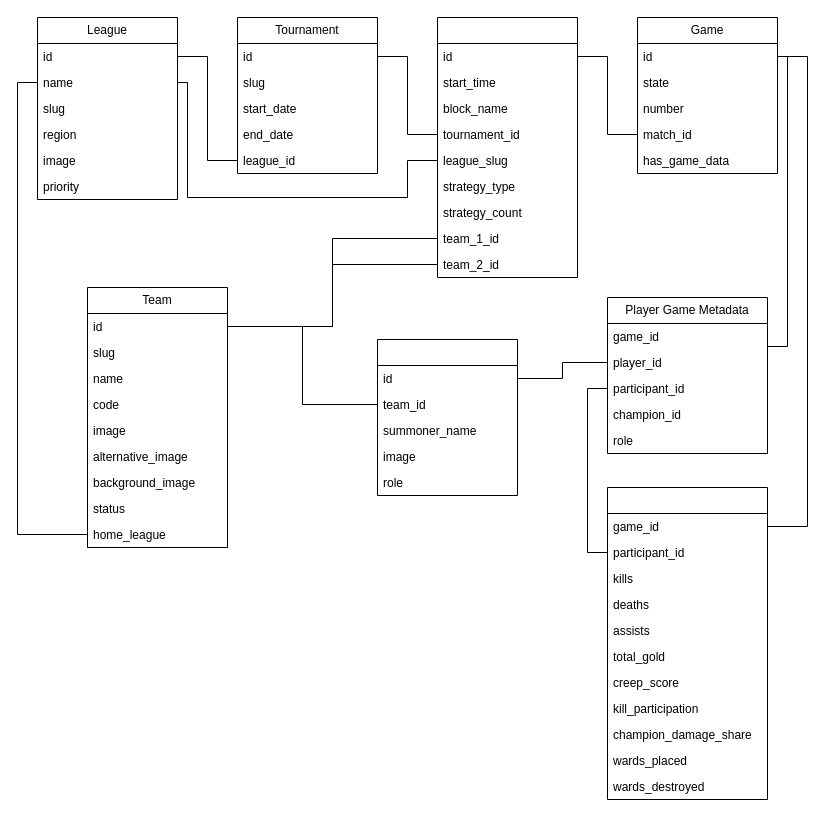
Image size: 826x820. Some labels were removed from this diagram. The box of each missing label's shape, as (x1, y1, x2, y2) in pixels:
Match: (436, 16, 578, 278)
Player: (376, 338, 518, 496)
Player Game Stats: (606, 486, 768, 800)
